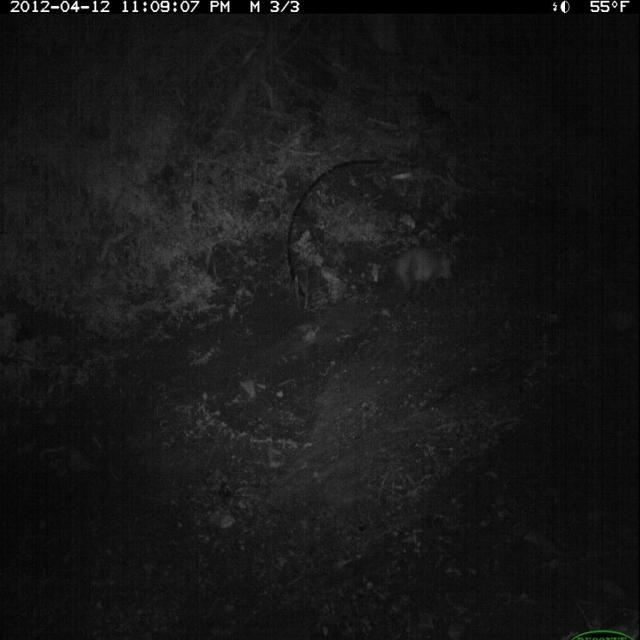opossum: (364, 242, 464, 295)
